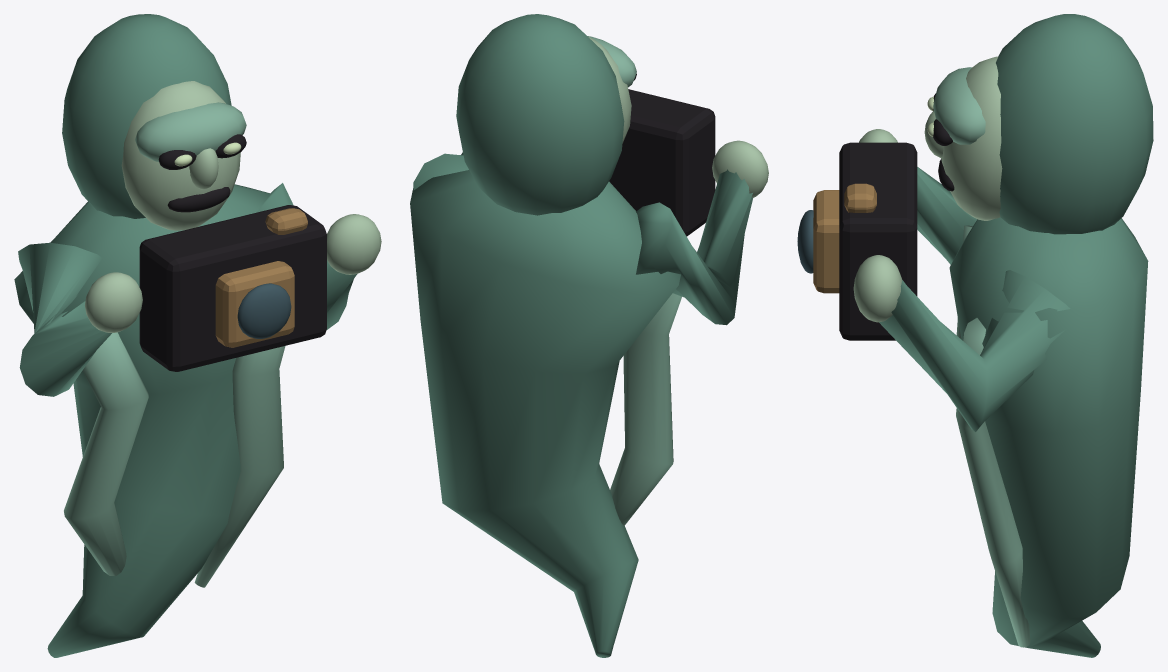
File: monster-magic-camera-phantom-photographer.glb
3 views of the same model, side by side, from view 1: azimuth 30°, elevation 25°; view 2: azimuth 150°, elevation 25°; view 3: azimuth 270°, elevation 25° (orthographic). The views are drawn at different scales.
Visible parts, largest first — view 1: magic-camera-phantom-photographer; view 2: magic-camera-phantom-photographer; view 3: magic-camera-phantom-photographer.
Boxes of the visible parts, box(x1,y1,x2,y2) form: magic-camera-phantom-photographer: box(14, 14, 381, 657); magic-camera-phantom-photographer: box(410, 14, 768, 657); magic-camera-phantom-photographer: box(797, 14, 1153, 657).
Bounding box in the file's own units: 0.5779 × 1.05 × 0.5014.
